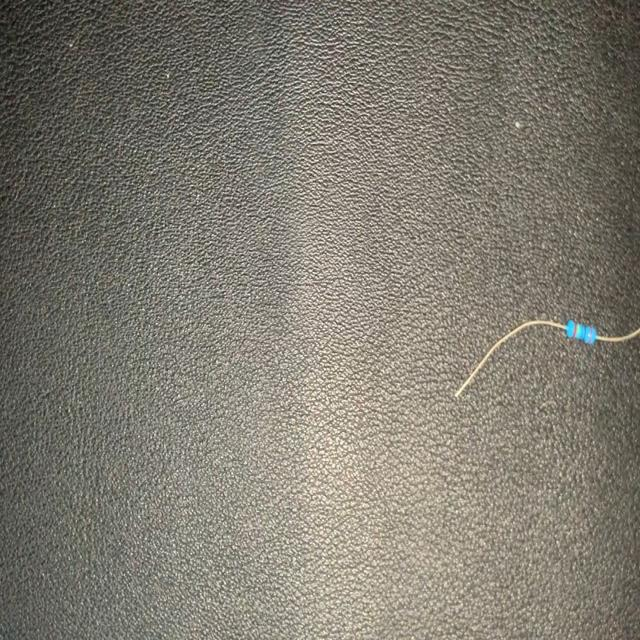resistor: (455, 311, 640, 397)
